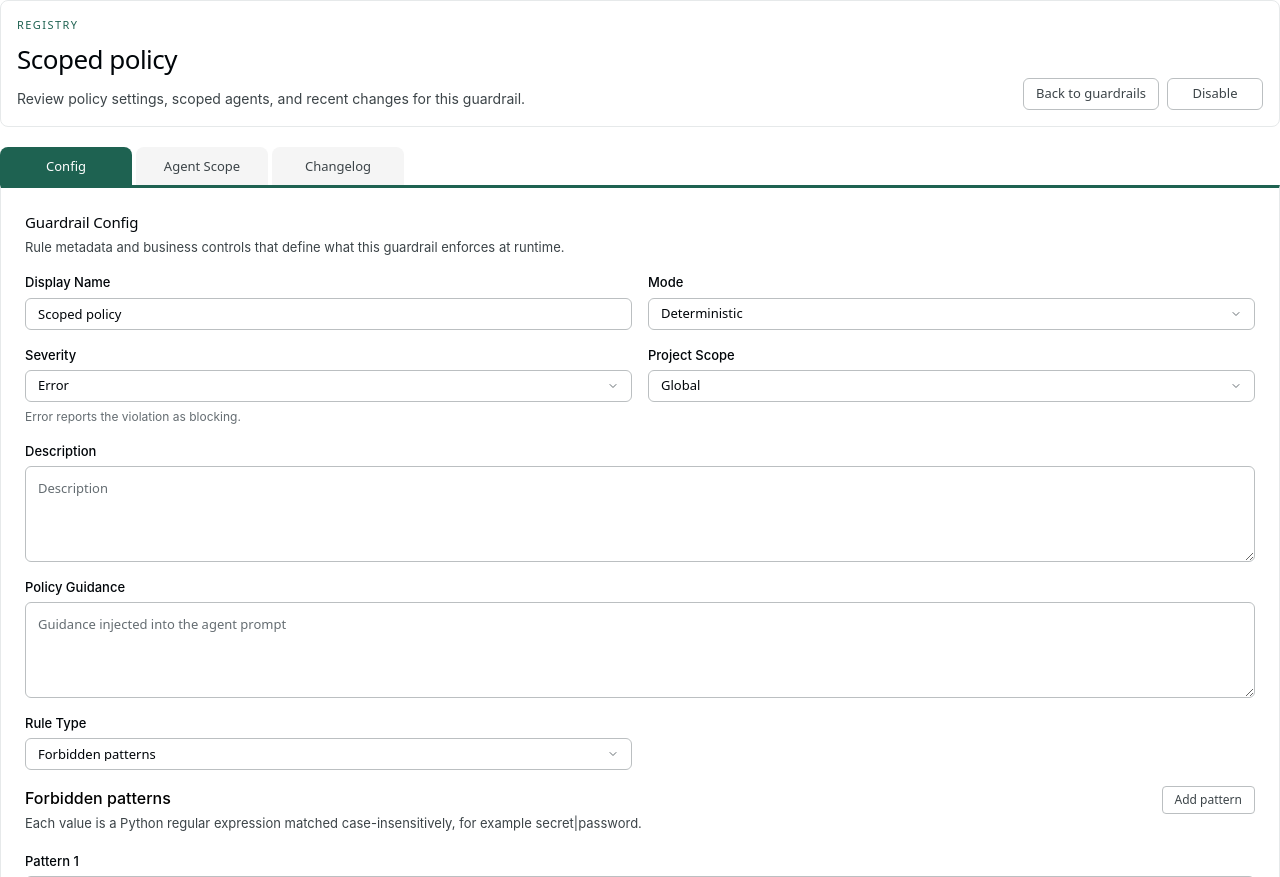
RegistryGuardrailsDetailPage › requires at least one explicitly selected agent
Click the tab "Agent Scope": (202, 166) [136,147,268,185]
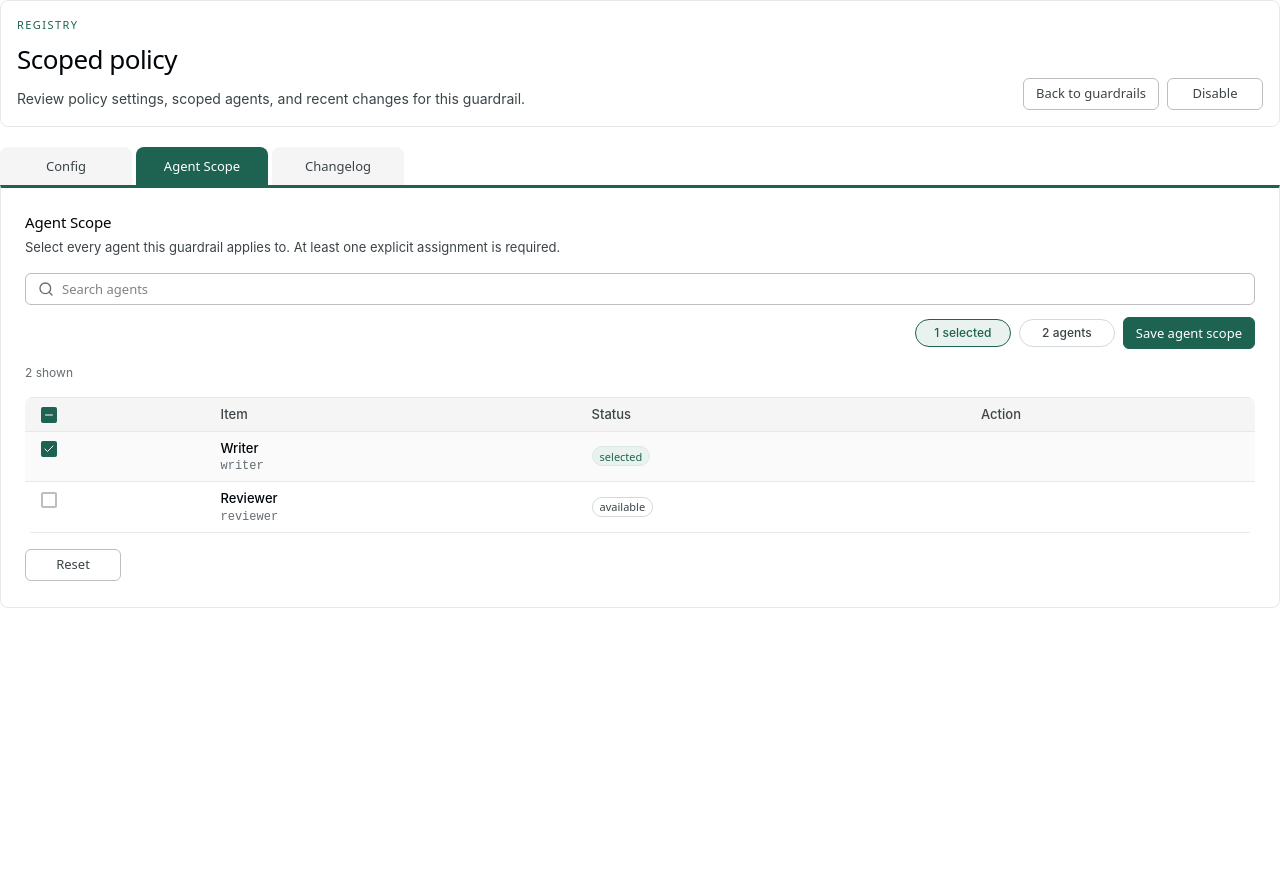
expect the checkbox named "Toggle Writer" is enabled: met
expect the checkbox named "Toggle Writer" is checked: met
Click the checkbox named "Toggle Writer": (49, 449) [41,441,57,457]
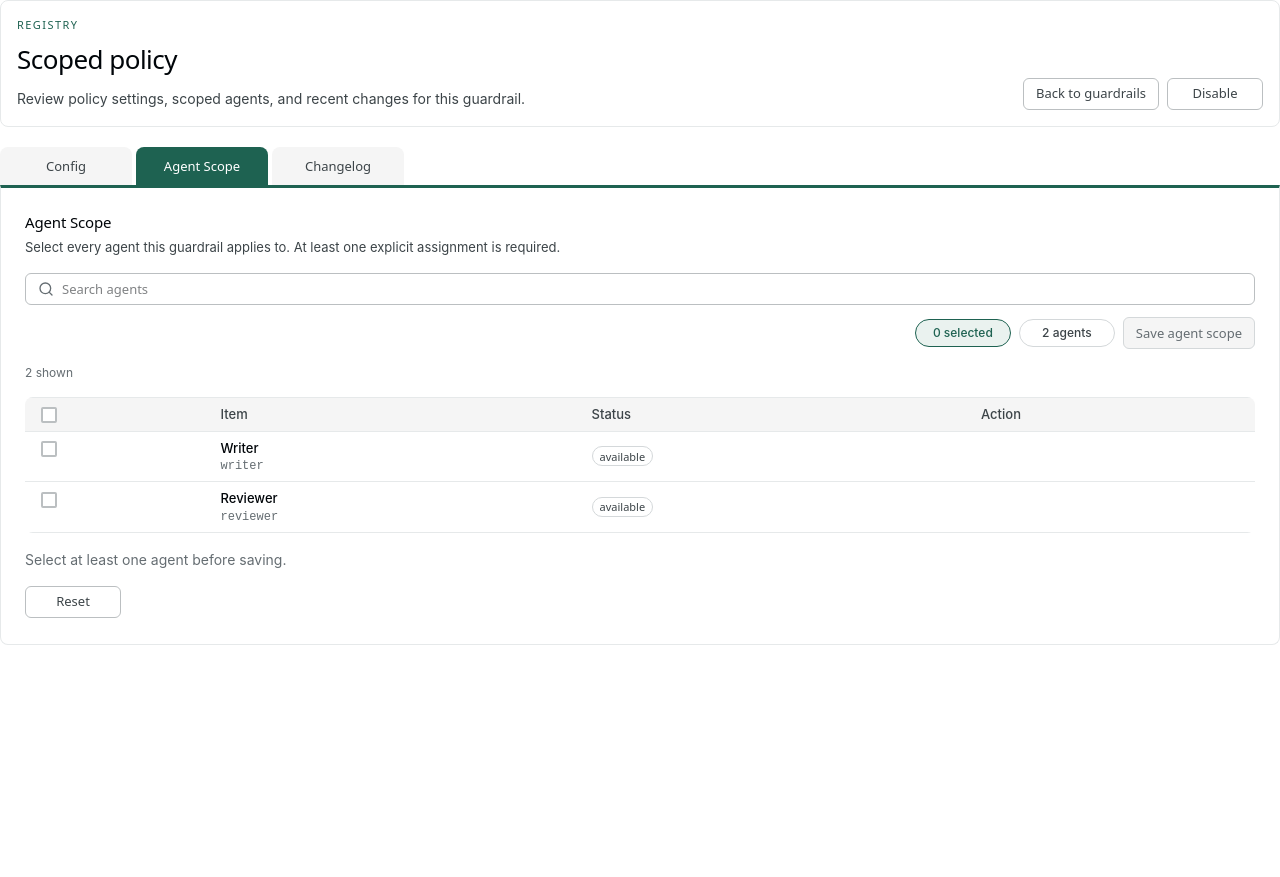
expect the text "Select at least one agent before saving." is shown: met, box [25,551,286,568]
expect the button "Save agent scope" is disabled: met, box [1123,318,1255,350]
